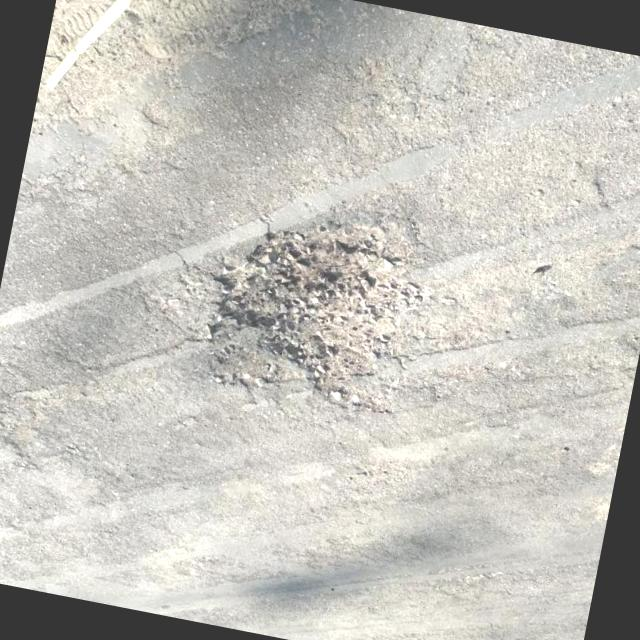pothole: (198, 200, 426, 418)
